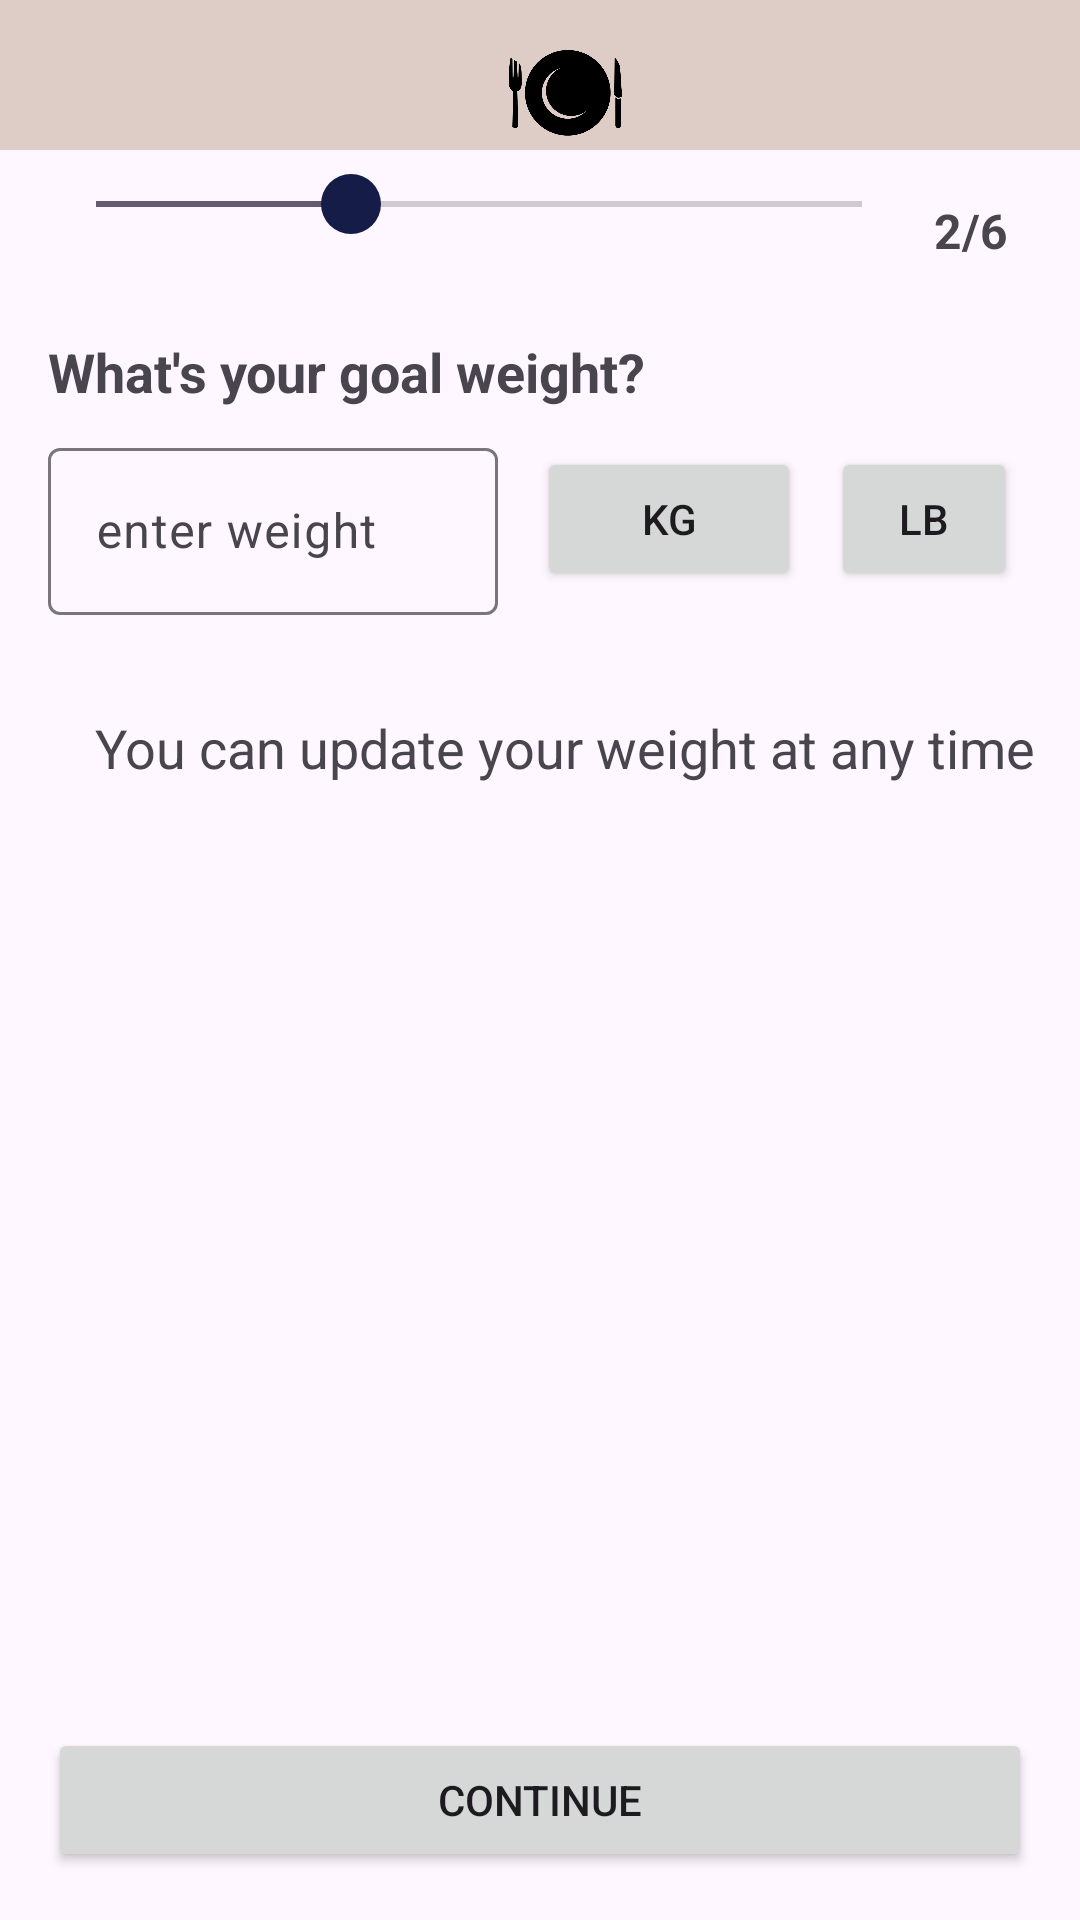

Screen size 1080px×1920px. Icon name, then its box in pixels as (x1, y1, x2, y2):
noun meal: (509, 50, 622, 136)
